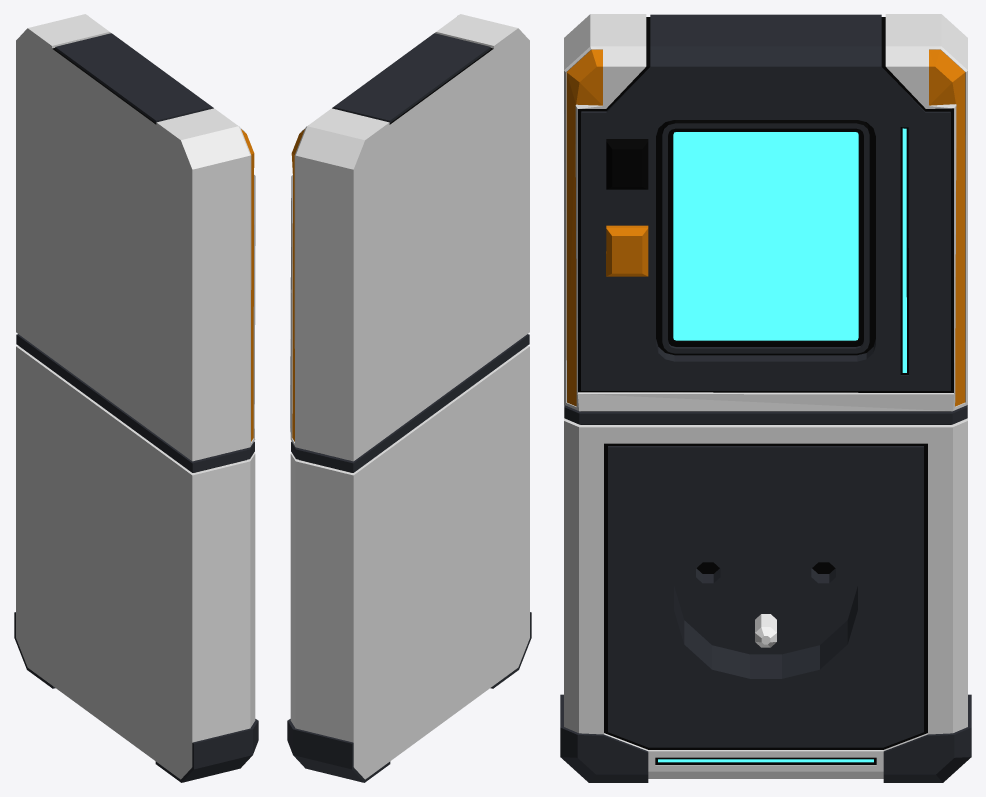
The model's file is SM_Wall_Power_Console.fbx.
The picture shows the model from 3 angles, left to right: view 1: azimuth 30°, elevation 25°; view 2: azimuth 150°, elevation 25°; view 3: azimuth 270°, elevation 25°; orthographic projection. The views are drawn at different scales.
Parts seen in each view (by area): view 1: SM_Wall_Power_Console; view 2: SM_Wall_Power_Console; view 3: SM_Wall_Power_Console.
Part boxes in pixels (left/top/right/bottom): SM_Wall_Power_Console: left=14, top=14, right=258, bottom=782; SM_Wall_Power_Console: left=287, top=14, right=531, bottom=782; SM_Wall_Power_Console: left=560, top=14, right=971, bottom=782.
Bounding box in the file's own units: 2.82 × 22.1 × 11.19.
